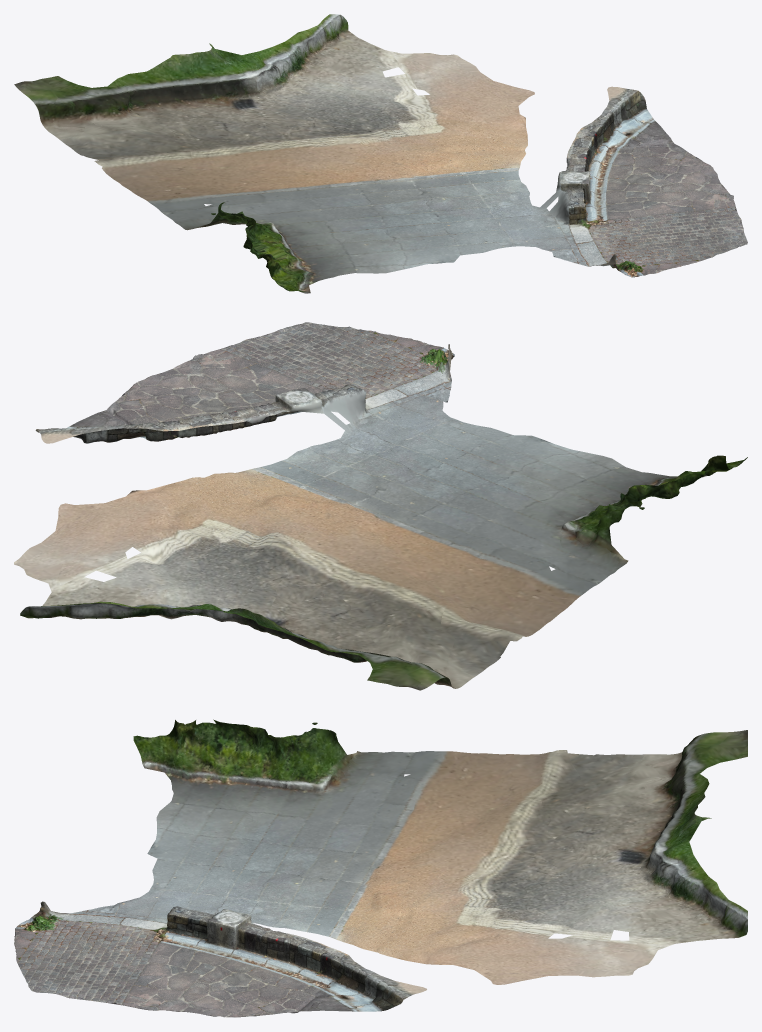
The picture shows the model from 3 angles, top to bottom: view 1: azimuth 30°, elevation 25°; view 2: azimuth 150°, elevation 25°; view 3: azimuth 270°, elevation 25°; orthographic projection. The views are drawn at different scales.
Visible parts, largest first — view 1: baked_mesh_7fc51532; view 2: baked_mesh_7fc51532; view 3: baked_mesh_7fc51532.
Part boxes in pixels (x1,y1,x2,y2): baked_mesh_7fc51532: (14,14,747,293); baked_mesh_7fc51532: (14,322,747,690); baked_mesh_7fc51532: (14,719,747,1017).
Bounding box in the file's own units: 4.99 × 0.3911 × 5.94.
Materials: 1 (1 with a texture image).
